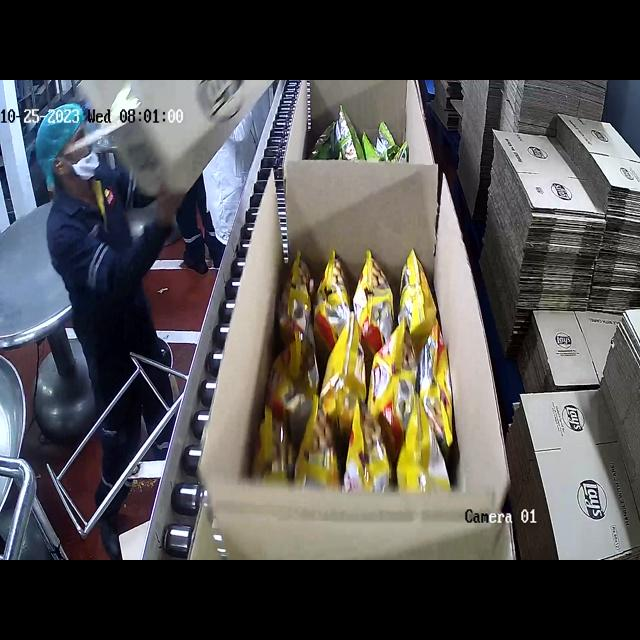salted: (273, 239, 455, 503)
yogurt: (330, 112, 398, 164)
